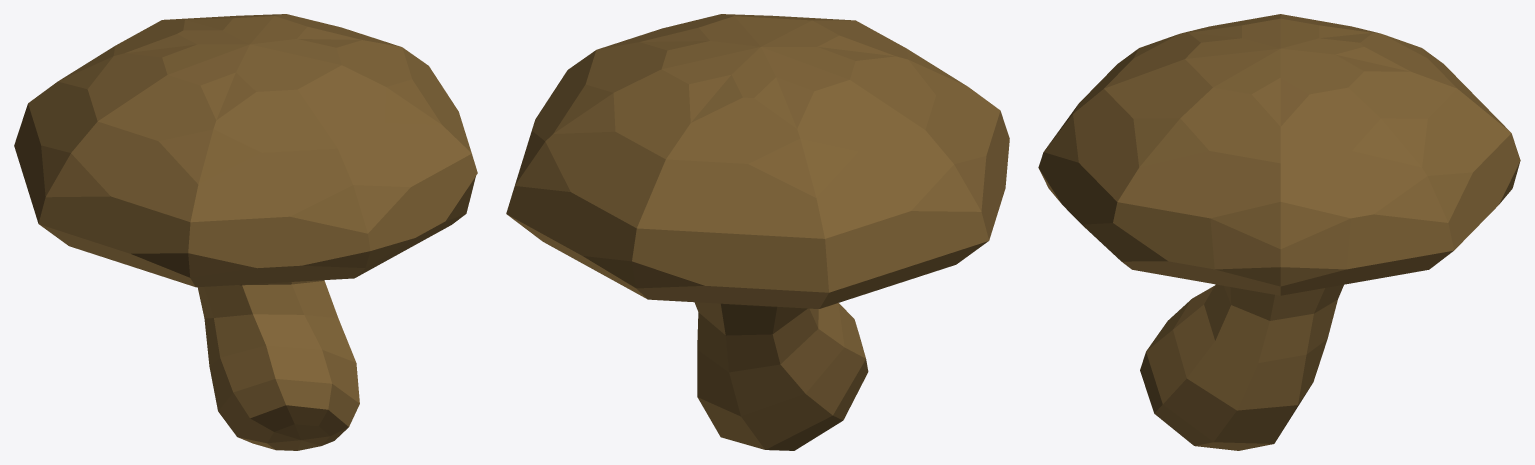
The model's file is mushroom.fbx.
3 renders of one model, left to right at view 1: azimuth 30°, elevation 25°; view 2: azimuth 150°, elevation 25°; view 3: azimuth 270°, elevation 25°, orthographic. The views are drawn at different scales.
Visible parts, largest first — view 1: mushroom_geo; view 2: mushroom_geo; view 3: mushroom_geo.
Boxes of the visible parts, left/top/right/bottom form: mushroom_geo: left=14, top=14, right=477, bottom=450; mushroom_geo: left=506, top=14, right=1009, bottom=450; mushroom_geo: left=1038, top=14, right=1520, bottom=450.
Bounding box in the file's own units: 5.79 × 5.2 × 5.81.
